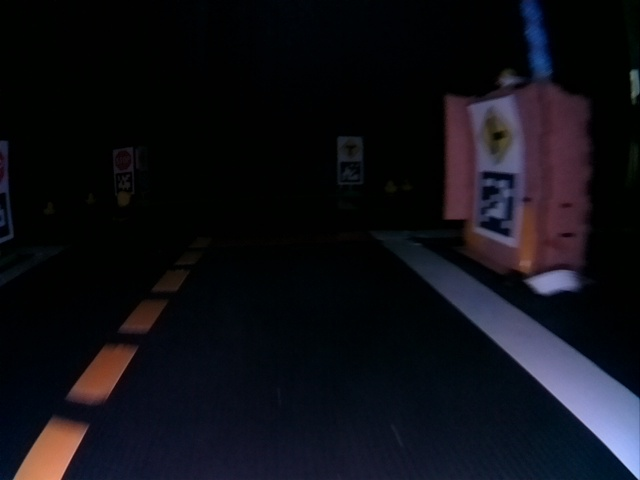Duckie: (117, 192, 130, 207)
Intersection sign: (475, 103, 517, 167), (339, 138, 361, 159)
QR code: (474, 170, 518, 241), (338, 161, 361, 181), (115, 173, 131, 190)
Stop sign: (114, 151, 132, 170)
